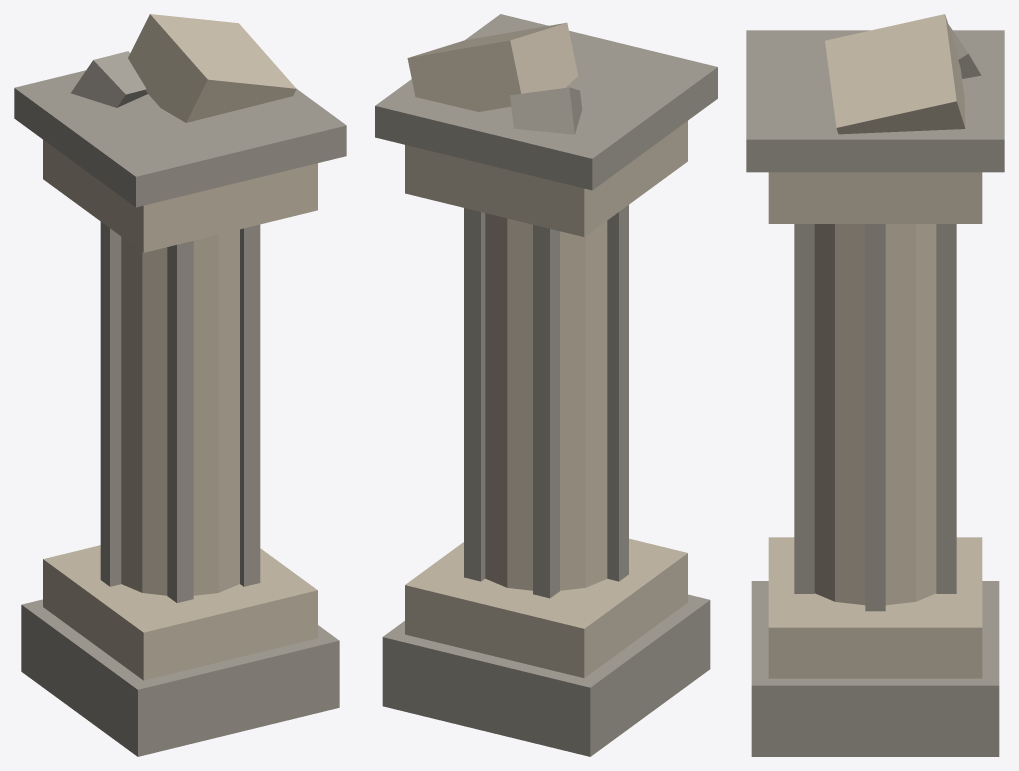
File: ruins_column.glb
The picture shows the model from 3 angles, left to right: view 1: azimuth 30°, elevation 25°; view 2: azimuth 150°, elevation 25°; view 3: azimuth 270°, elevation 25°; orthographic projection. The views are drawn at different scales.
Visible parts, largest first — view 1: col_base; view 2: col_base; view 3: col_base.
Part boxes in pixels (x1,y1,x2,y2): col_base: (14,14,346,756); col_base: (375,14,717,756); col_base: (746,14,1004,756).
Bounding box in the file's own units: 1.15 × 3.39 × 1.15.
